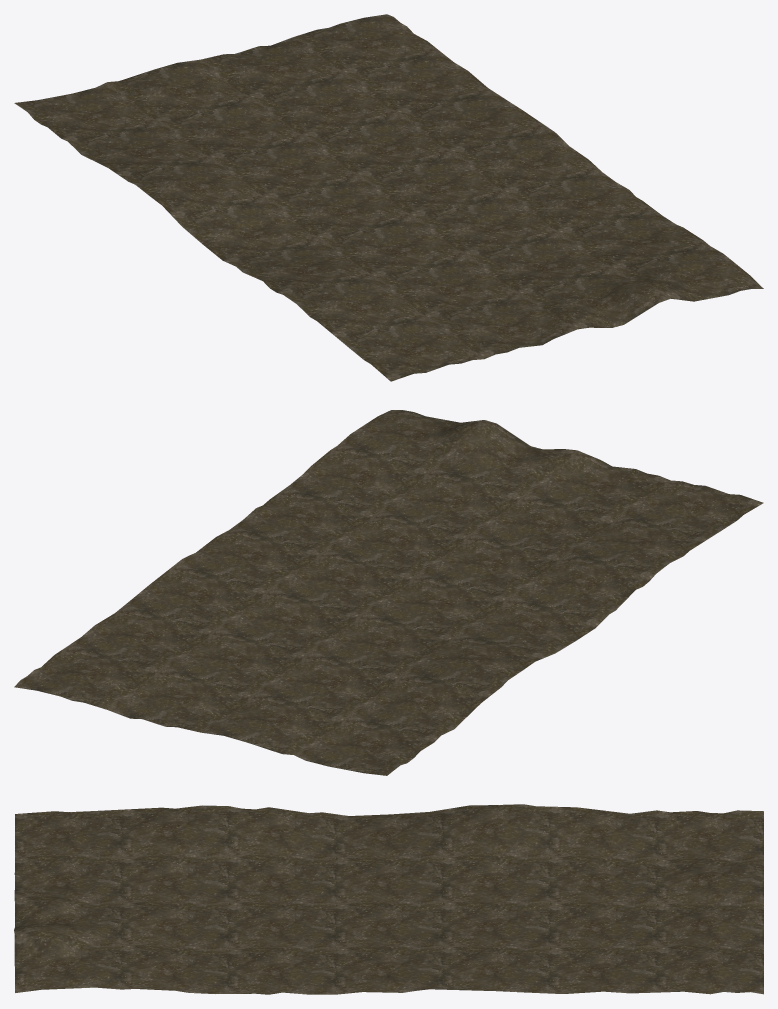
Rendered from AEG023_410out-transformed.glb.
3 renders of one model, top to bottom at view 1: azimuth 30°, elevation 25°; view 2: azimuth 150°, elevation 25°; view 3: azimuth 270°, elevation 25°, orthographic.
Parts seen in each view (by area): view 1: default; view 2: default; view 3: default.
Boxes of the visible parts, x1,y1,x2,y2 form: default: [14, 14, 763, 381]; default: [14, 410, 763, 775]; default: [14, 804, 763, 994].
Bounding box in the file's own units: 17.95 × 0.9232 × 31.44.
Materials: 1 (1 with a texture image).
